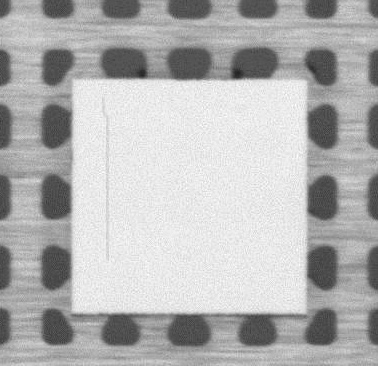DIE_CRACK: (102, 97, 112, 262)
